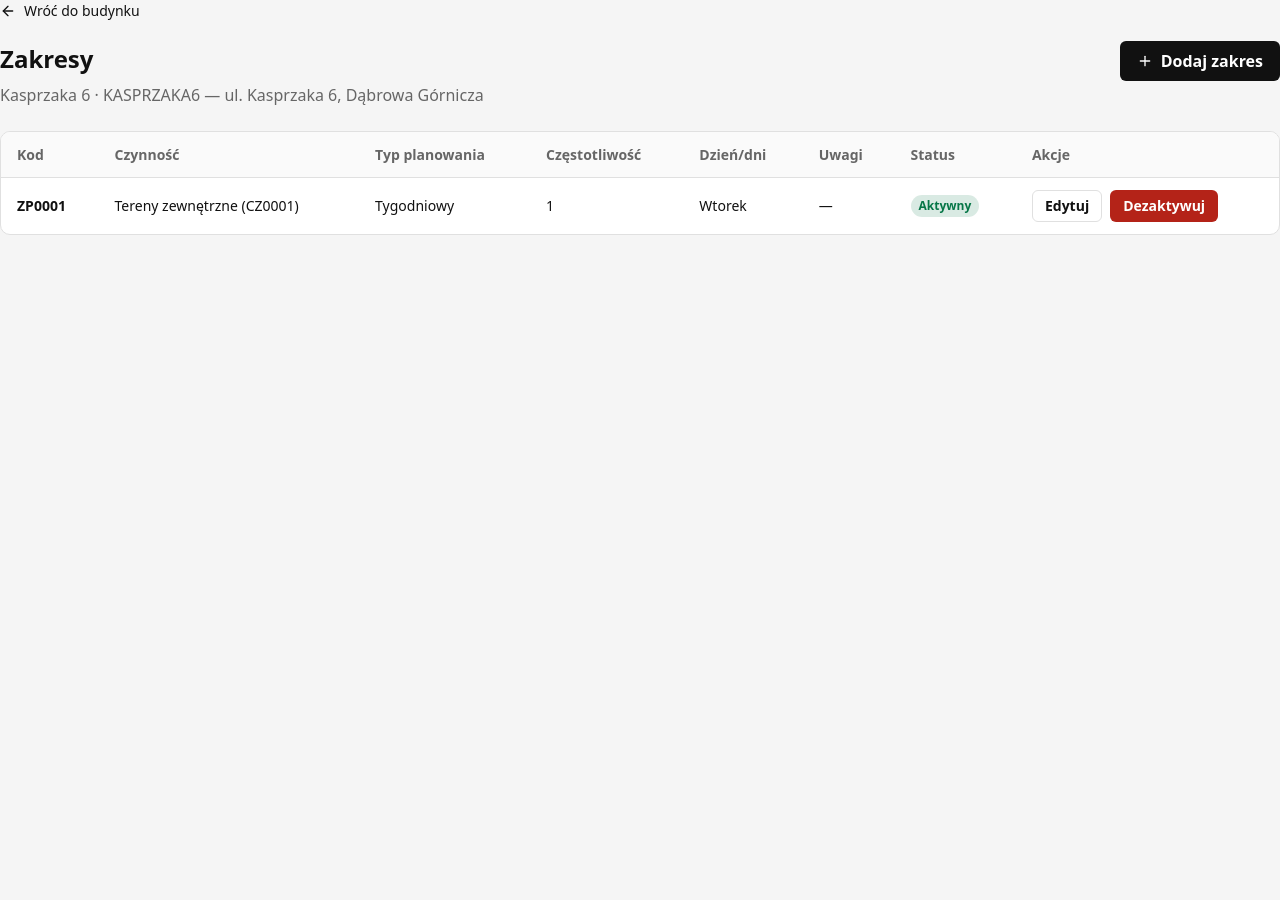
BuildingScopesPage › validates create form required fields
Expected: the text "ZP0001" is shown, [1,177,98,234]
Click the button "Dodaj zakres". click: (1200, 60)
box: [1120,40,1279,80]
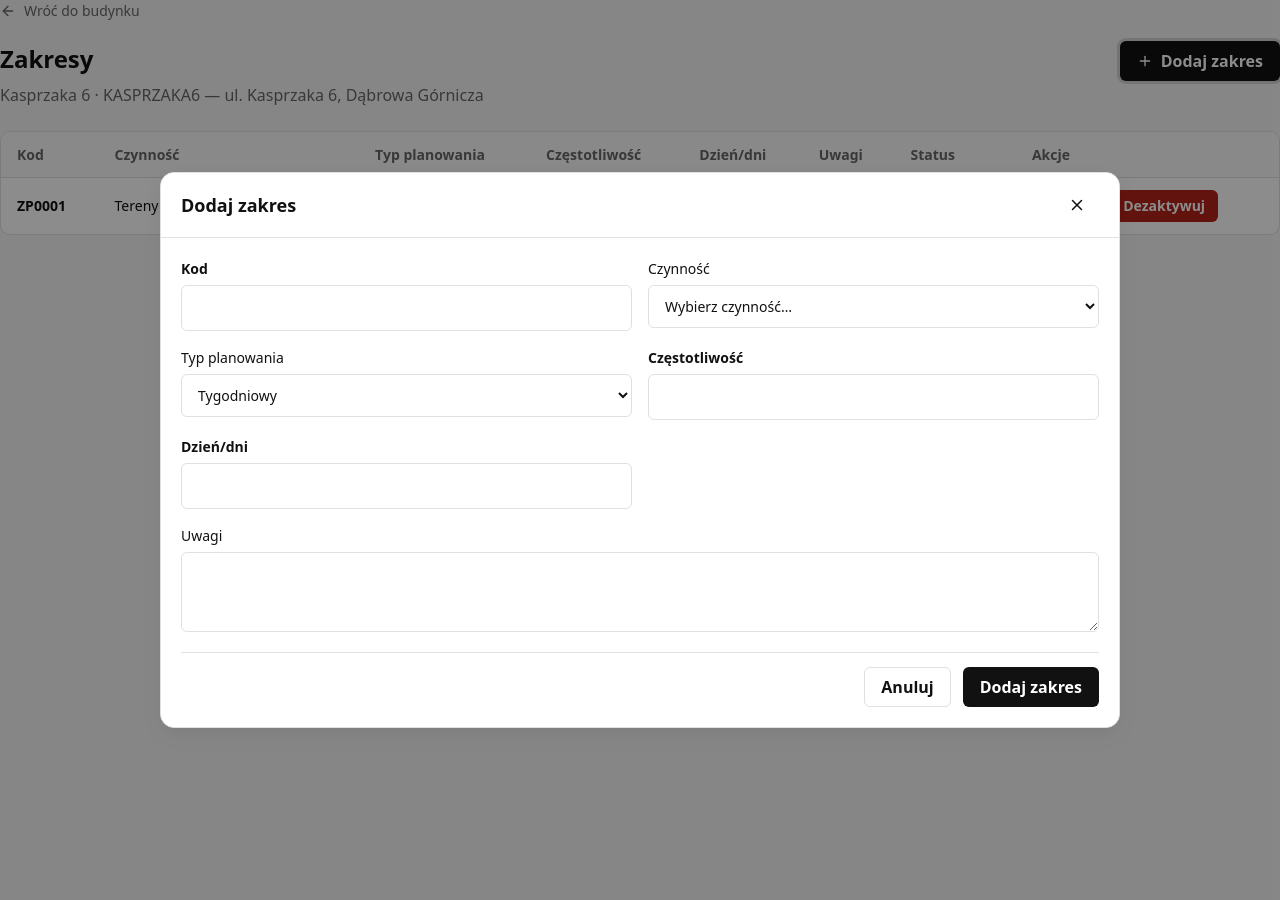
Click the button "Dodaj zakres". click: (1031, 687)
box: [963,667,1099,707]
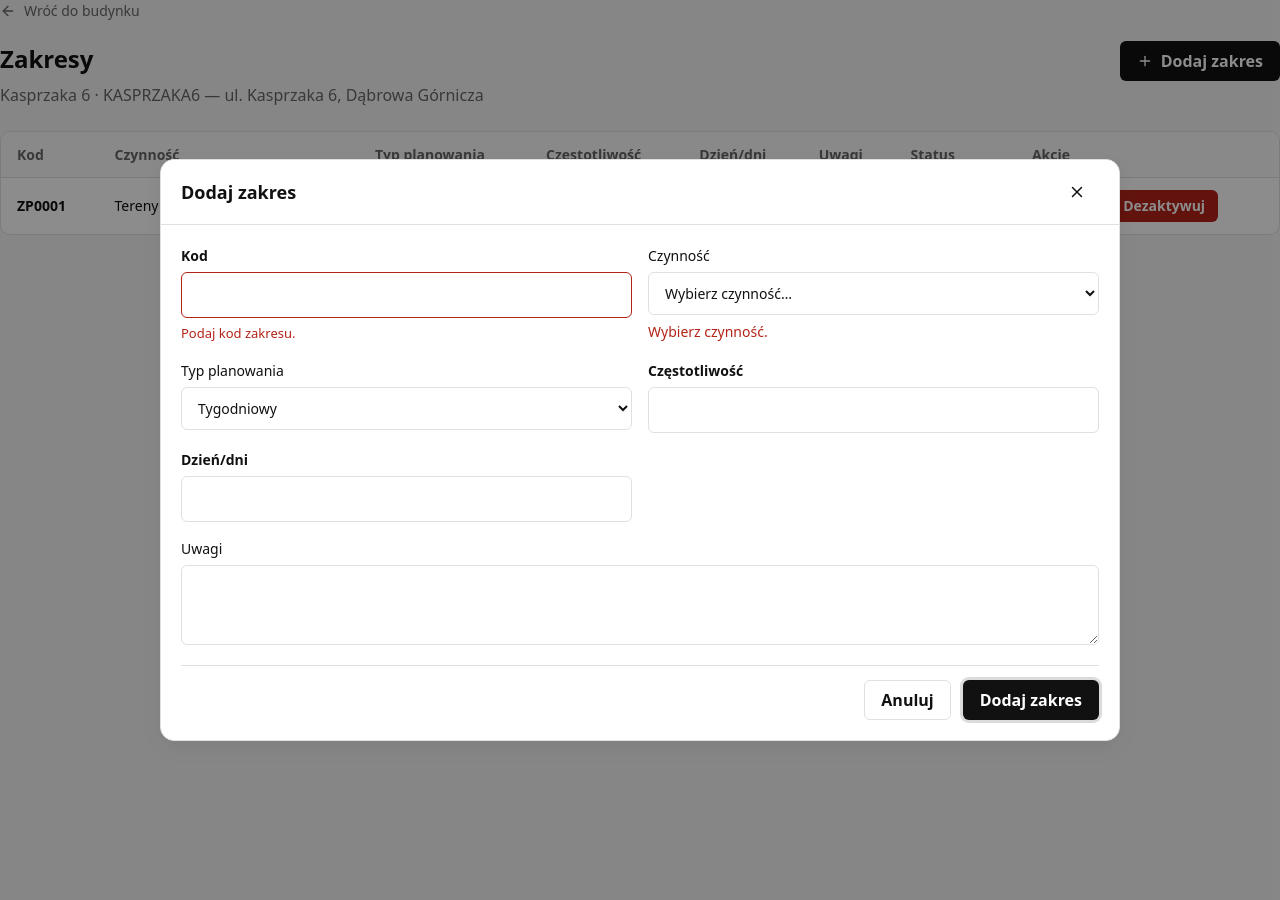
Expected: the text "Podaj kod zakresu." is shown, [181,324,296,342]
Expected: the text "Wybierz czynność." is shown, [648,322,768,341]
